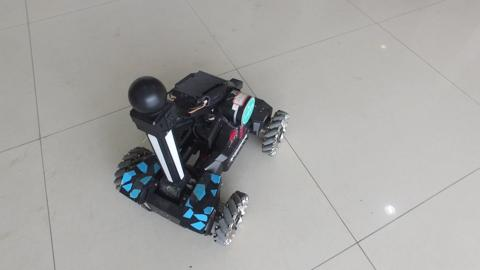chariot: (90, 64, 284, 249)
